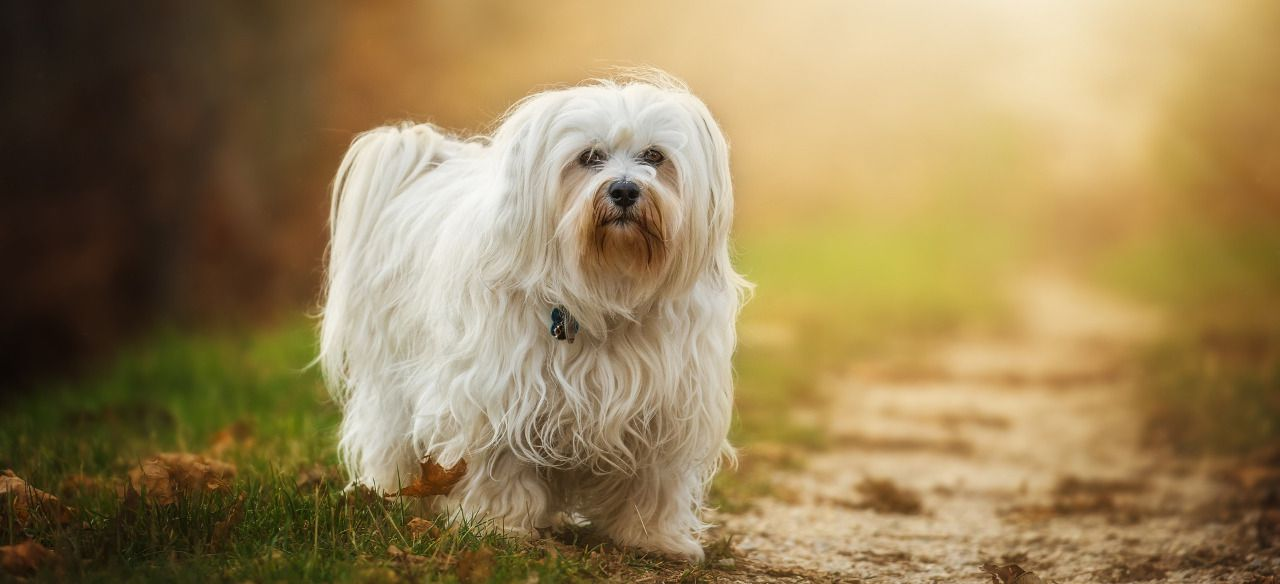dog: (267, 52, 754, 558)
